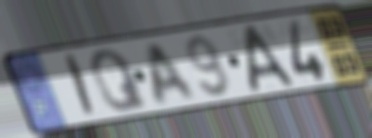4: (286, 16, 328, 84)
9: (185, 32, 233, 98)
A: (244, 22, 298, 96), (146, 40, 200, 108)
I: (64, 52, 98, 121)
Q: (88, 46, 151, 114)
